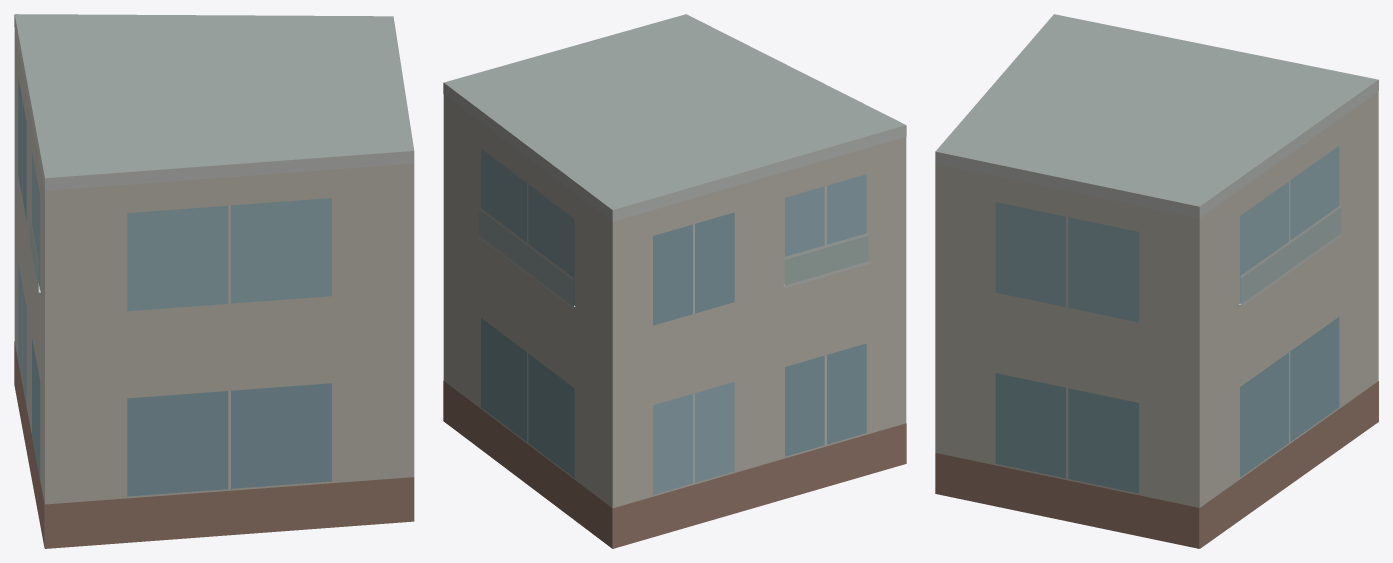
Rendered from survey-upis-32951200.glb.
3 renders of one model, left to right at view 1: azimuth 30°, elevation 25°; view 2: azimuth 150°, elevation 25°; view 3: azimuth 270°, elevation 25°, orthographic. The views are drawn at different scales.
Visible parts, largest first — view 1: survey-upis-32951200.tmp; view 2: survey-upis-32951200.tmp; view 3: survey-upis-32951200.tmp.
Part boxes in pixels (x1,y1,x2,y2): survey-upis-32951200.tmp: (14,14,414,548); survey-upis-32951200.tmp: (443,14,906,548); survey-upis-32951200.tmp: (935,14,1378,548).
Bounding box in the file's own units: 8.7 × 7.2 × 8.47.
